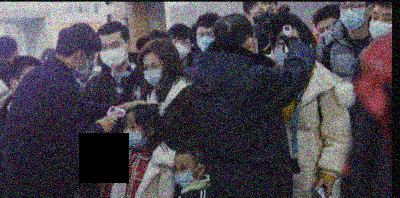with_mask: (271, 35, 301, 67), (98, 38, 128, 67), (339, 2, 369, 30), (368, 8, 392, 41), (142, 59, 169, 88), (122, 119, 147, 147), (172, 161, 197, 187), (73, 58, 96, 79), (170, 35, 189, 60), (196, 29, 215, 52)
